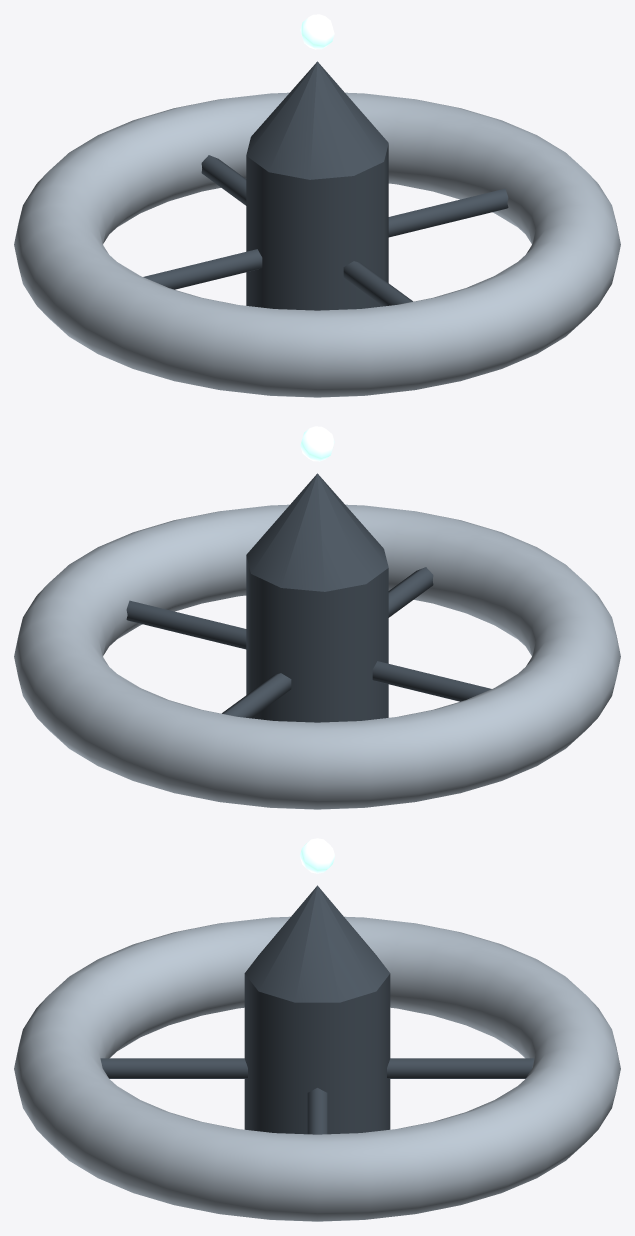
Rendered from saturn-station.glb.
3 views of the same model, one above another, from view 1: azimuth 30°, elevation 25°; view 2: azimuth 150°, elevation 25°; view 3: azimuth 270°, elevation 25° (orthographic).
Parts seen in each view (by area): view 1: habitat-ring, docking-hub, hub-cap, spoke-1, spoke-3, spoke-4, spoke-2, beacon; view 2: habitat-ring, docking-hub, hub-cap, spoke-1, spoke-3, spoke-2, spoke-4, beacon; view 3: habitat-ring, docking-hub, hub-cap, spoke-2, spoke-4, beacon, spoke-1.
Boxes of the visible parts, <box> form: habitat-ring: <box>14,92,620,397</box>; docking-hub: <box>246,144,388,310</box>; hub-cap: <box>246,61,388,179</box>; spoke-1: <box>388,188,508,237</box>; spoke-3: <box>143,249,262,289</box>; spoke-4: <box>343,261,412,306</box>; spoke-2: <box>201,155,246,205</box>; beacon: <box>300,14,334,49</box>; habitat-ring: <box>14,504,620,809</box>; docking-hub: <box>246,556,388,722</box>; hub-cap: <box>246,473,388,591</box>; spoke-1: <box>126,600,246,649</box>; spoke-3: <box>372,661,491,701</box>; spoke-2: <box>222,673,291,718</box>; spoke-4: <box>388,567,433,617</box>; beacon: <box>300,426,334,461</box>; habitat-ring: <box>14,916,620,1221</box>; docking-hub: <box>244,974,390,1134</box>; hub-cap: <box>244,885,390,1002</box>; spoke-2: <box>387,1058,534,1078</box>; spoke-4: <box>100,1058,247,1078</box>; beacon: <box>300,838,334,873</box>; spoke-1: <box>307,1088,327,1134</box>.
Size of the model in its own units: 6.38 by 3.76 by 6.38.
